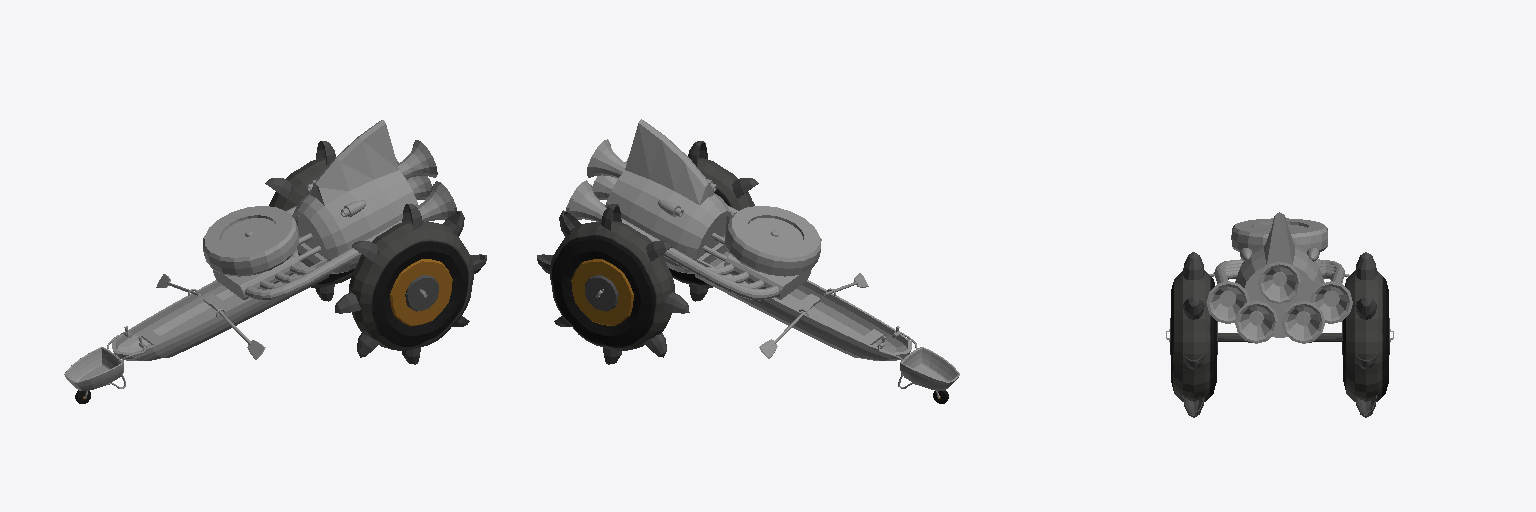
3 views of the same model, side by side, from view 1: azimuth 30°, elevation 25°; view 2: azimuth 150°, elevation 25°; view 3: azimuth 270°, elevation 25° (orthographic).
Parts seen in each view (by area): view 1: model_0, model_2, model_1; view 2: model_0, model_2, model_1; view 3: model_2, model_1, model_0.
Part boxes in pixels (x1,y1,x2,y2): model_0: (64,120,418,390); model_2: (75,141,486,403); model_1: (84,140,456,398); model_0: (605,119,959,390); model_2: (537,141,948,403); model_1: (566,139,939,398); model_2: (1170,252,1389,417); model_1: (1166,218,1393,343); model_0: (1209,212,1349,337).
Bounding box in the file's own units: 59.58 × 32.02 × 31.4.
Materials: 3 (1 with a texture image).